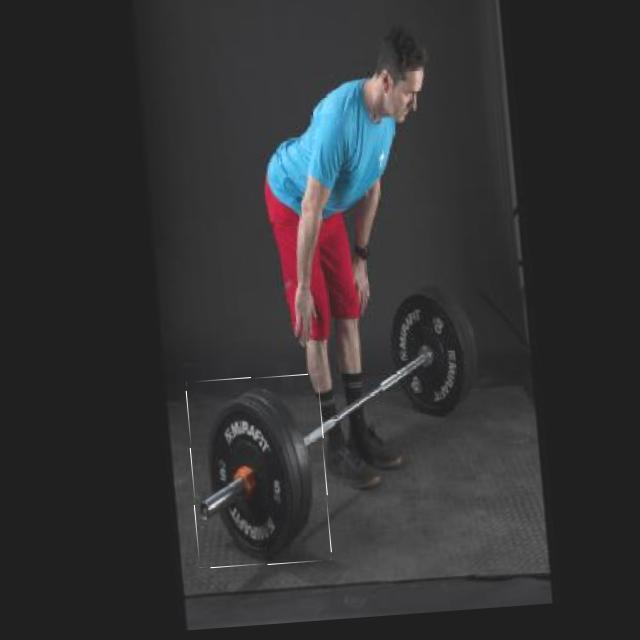barbell: (178, 378, 324, 573)
